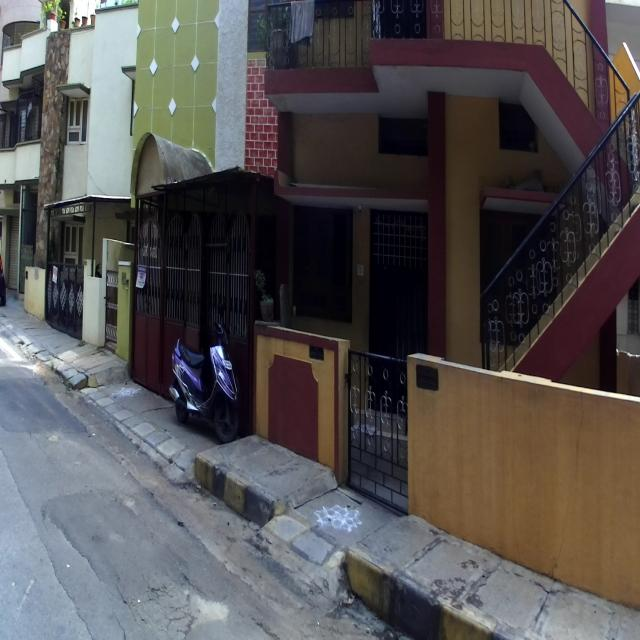scooter: (169, 297, 239, 441)
